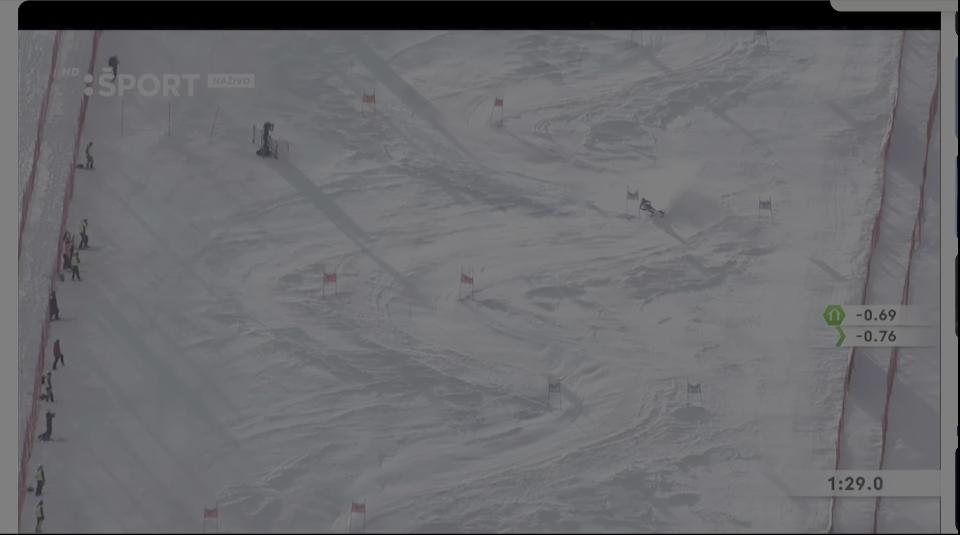gate: (318, 261, 330, 300), (454, 264, 465, 300), (467, 266, 476, 301), (331, 263, 338, 297)
